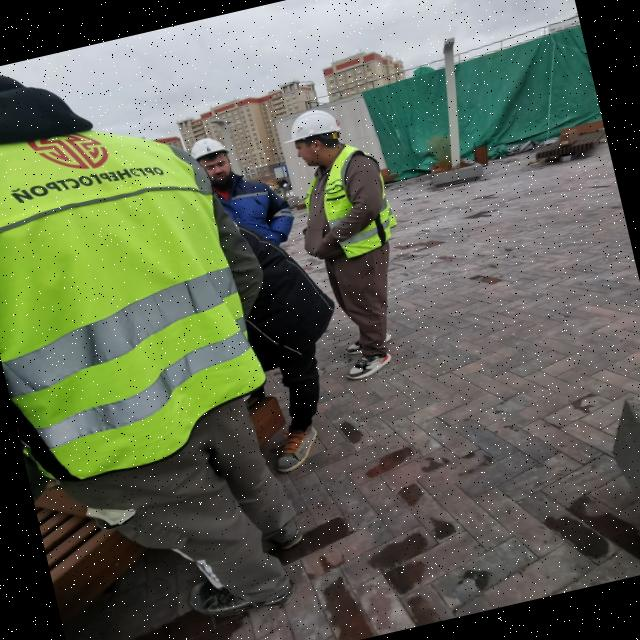Helmet: (281, 105, 345, 150), (189, 135, 233, 167)
Jacket: (1, 112, 257, 461), (301, 146, 394, 261)
NoJacket: (218, 170, 286, 249)
